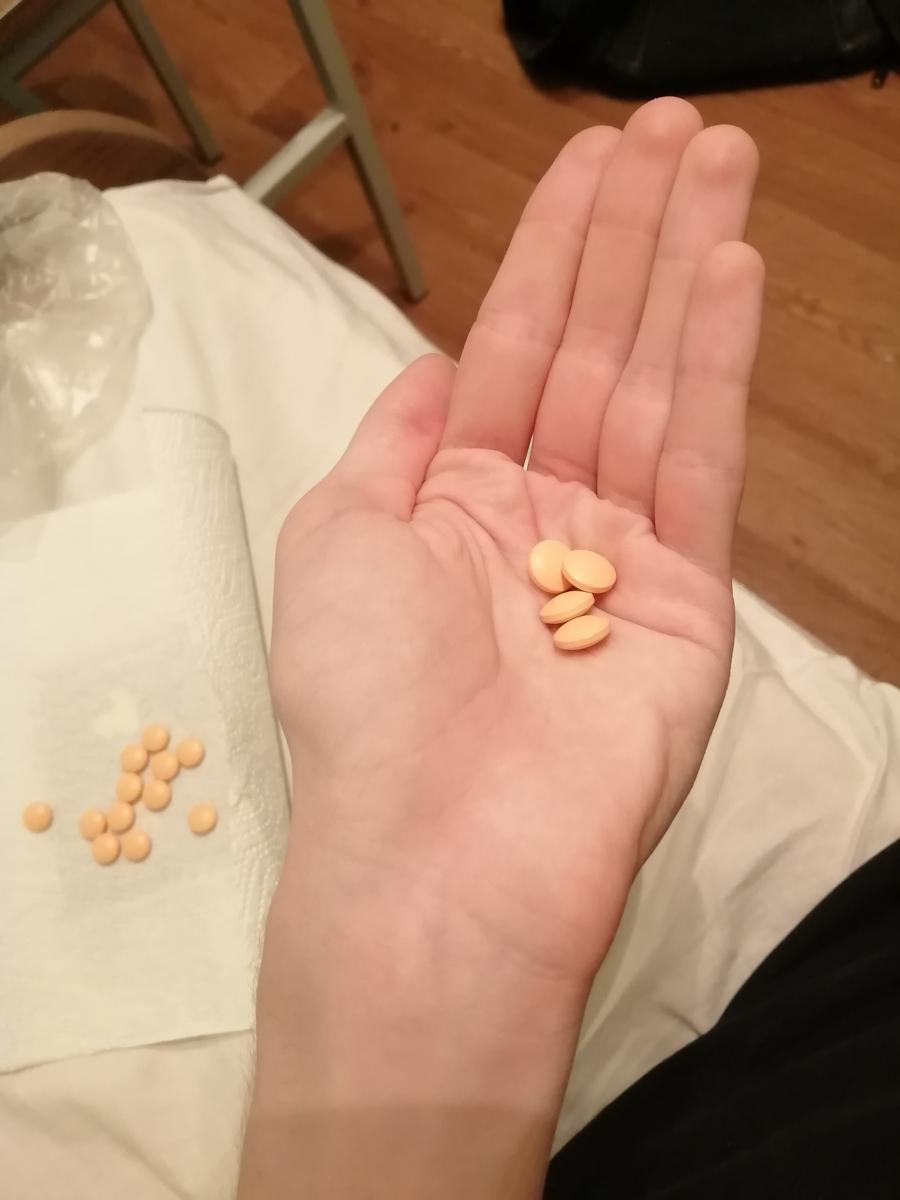tablet: (528, 536, 576, 595), (562, 547, 619, 594), (554, 613, 612, 650), (538, 588, 595, 625), (74, 804, 108, 843), (184, 801, 220, 835), (20, 802, 55, 834), (141, 778, 173, 812), (92, 833, 123, 866), (106, 802, 137, 833), (174, 738, 205, 768), (115, 772, 144, 804), (124, 831, 153, 863), (140, 723, 169, 753), (150, 750, 179, 779), (121, 744, 147, 773)
